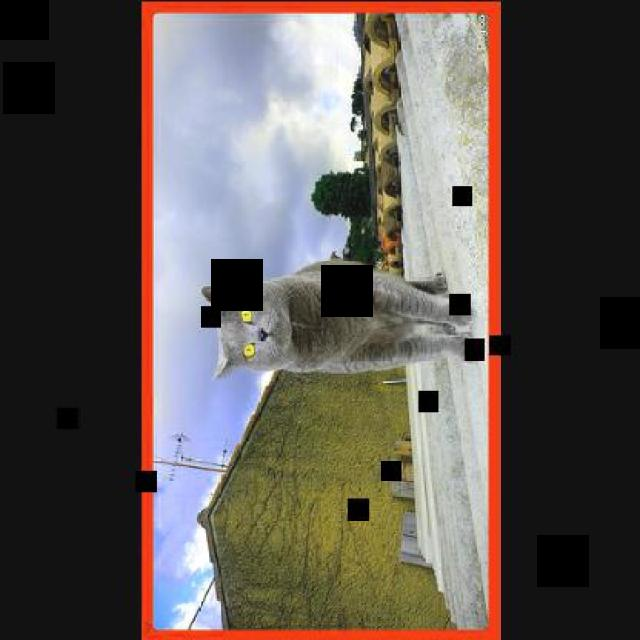unauthorized: (200, 254, 472, 380)
